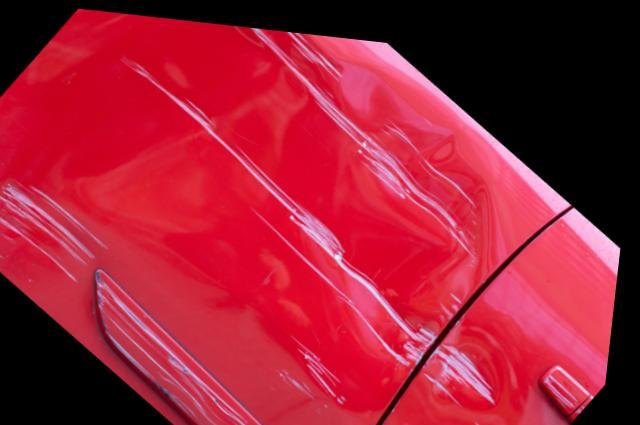dent: (12, 12, 499, 405), (436, 319, 519, 405)
scratch: (98, 267, 274, 425), (0, 179, 110, 308)
